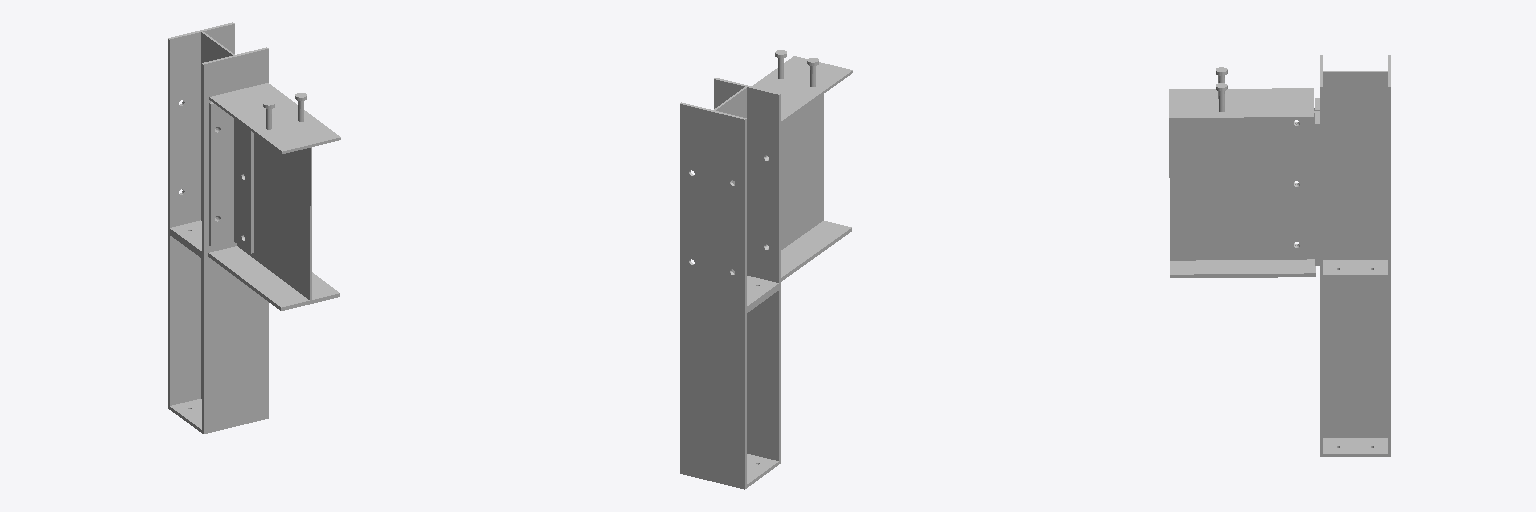
Rendered from Nobolt.obj.
The picture shows the model from 3 angles: view 1: azimuth 30°, elevation 25°; view 2: azimuth 150°, elevation 25°; view 3: azimuth 270°, elevation 25°; orthographic projection.
Visible parts, largest first — view 1: UC2_Prototype_(1).001; view 2: UC2_Prototype_(1).001; view 3: UC2_Prototype_(1).001.
Boxes of the visible parts, box(x1,y1,x2,y2) form: UC2_Prototype_(1).001: box(168, 22, 340, 433); UC2_Prototype_(1).001: box(680, 50, 852, 489); UC2_Prototype_(1).001: box(1169, 55, 1390, 456).
Bounding box in the file's own units: 0.2 × 1.08 × 0.5891.